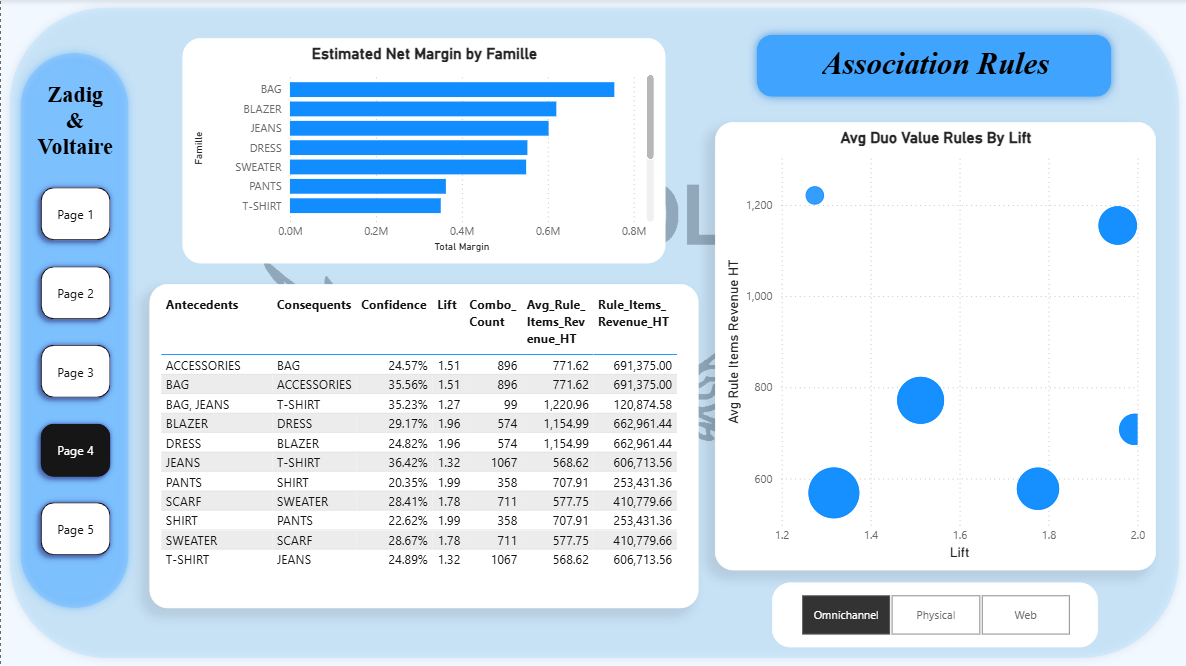

The dashboard page shown, as its layout file describes it:
{"tool":"powerbi","page":{"name":"Page 4","canvas":[1280,720],"ordinal":3},"visuals":[{"type":"image","box":[0,0,1280.8,720.6],"z":0},{"type":"shape","box":[0,0,1280.8,720.6],"z":1000},{"type":"tableEx","fields":{"Values":["market_basket_rules_v2.Antecedents","market_basket_rules_v2.Consequents","market_basket_rules_v2.Confidence","market_basket_rules_v2.Lift","market_basket_rules_v2.Combo_Count","market_basket_rules_v2.Avg_Rule_Items_Revenue_HT","market_basket_rules_v2.Rule_Items_Revenue_HT"]},"box":[160.3,307.7,592.6,349.8],"z":2000},{"type":"scatterChart","title":"Avg Duo Value Rules By Lift","fields":{"Category":["market_basket_rules_v2.Rule Label"],"Size":["Max(market_basket_rules_v2.Combo_Count)"],"X":["market_basket_rules_v2.Lift"],"Y":["market_basket_rules_v2.Avg_Rule_Items_Revenue_HT"]},"box":[770,132,476.1,484.1],"z":3000},{"type":"barChart","title":"Estimated Net Margin by Famille","fields":{"Category":["dim_products.Famille"],"Y":["_Measures.Estimated Net Margin ILS"]},"box":[195.9,42.1,521.1,243.1],"z":4000},{"type":"shape","box":[806.4,29.1,401.6,85.8],"z":5000},{"type":"shape","title":"bffdbdbfdb","box":[829,29.1,359.5,81],"z":6000},{"type":"shape","title":"sd","box":[13.1,50.9,132.8,615.3],"z":7000},{"type":"pageNavigator","box":[33.5,195,93.2,419.2],"z":8000},{"type":"shape","box":[38.9,88.7,82.6,85.8],"z":9000},{"type":"slicer","fields":{"Values":["market_basket_rules_v2.Channel"]},"box":[832,630,352,70],"z":10000}]}

Visuals, with their boxes in screenshot pixels (x1, y1, x2, y2), scaled from the page's 1280x720 canvas onto the 1186x666 screenshot:
image: (0,0,1185,665)
shape: (0,0,1185,665)
tableEx - market_basket_rules_v2.Antecedents x market_basket_rules_v2.Consequents: (149,285,698,608)
"Avg Duo Value Rules By Lift" scatterChart: (713,122,1155,570)
"Estimated Net Margin by Famille" barChart: (182,39,664,264)
shape: (747,27,1119,106)
"bffdbdbfdb" shape: (768,27,1101,102)
"sd" shape: (12,47,135,616)
pageNavigator: (31,180,117,568)
shape: (36,82,113,161)
slicer - market_basket_rules_v2.Channel: (771,583,1097,648)
